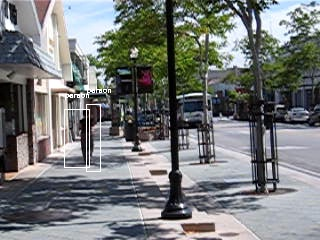person: (79, 108, 98, 165), (78, 108, 97, 165), (80, 108, 99, 165), (79, 107, 98, 164), (79, 109, 98, 166)
target_negative: (112, 14, 164, 187), (145, 140, 228, 218), (124, 177, 257, 207), (20, 212, 72, 227), (72, 42, 310, 44), (196, 233, 213, 237)
